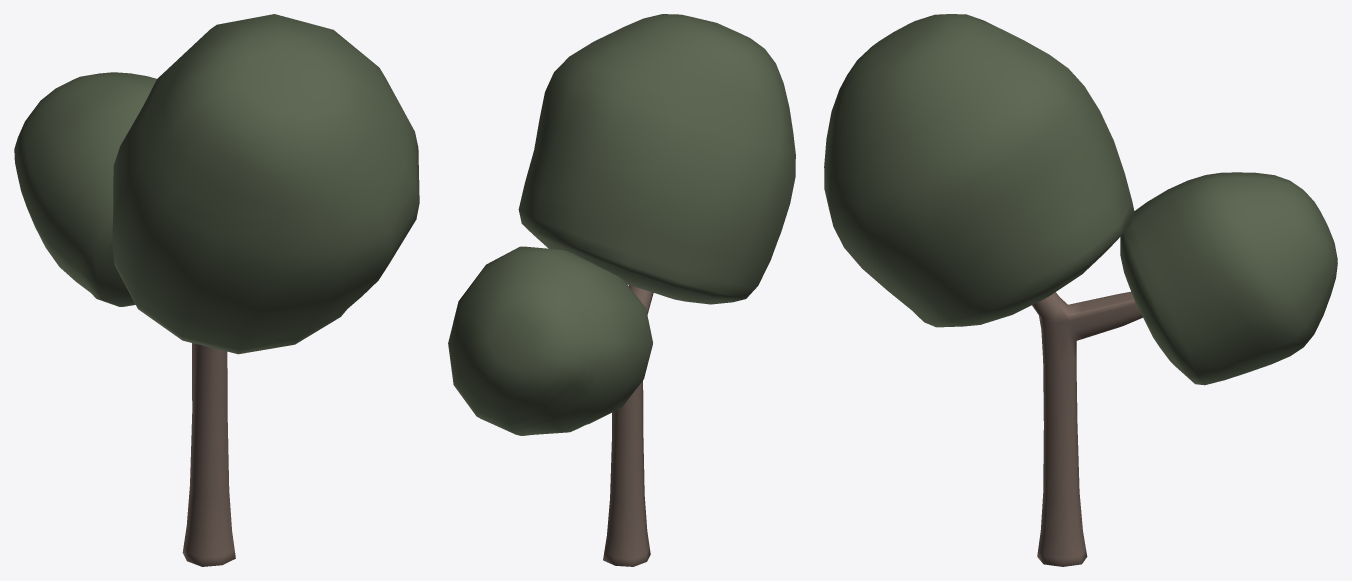
The model's file is Tree_Double_Green.fbx.
3 views of the same model, side by side, from view 1: azimuth 30°, elevation 25°; view 2: azimuth 150°, elevation 25°; view 3: azimuth 270°, elevation 25° (orthographic). The views are drawn at different scales.
Parts seen in each view (by area): view 1: Leaves, Leaves1, Trunk; view 2: Leaves, Leaves1, Trunk; view 3: Leaves, Leaves1, Trunk.
Part boxes in pixels (x1,y1,x2,y2): Leaves: (112, 14, 419, 354); Leaves1: (14, 72, 156, 306); Trunk: (182, 343, 235, 566); Leaves: (518, 14, 795, 304); Leaves1: (448, 246, 652, 435); Trunk: (603, 285, 653, 566); Leaves: (824, 14, 1134, 327); Leaves1: (1120, 172, 1337, 385); Trunk: (1032, 292, 1142, 566).
Bounding box in the file's own units: 0.798 × 1.68 × 1.47.
